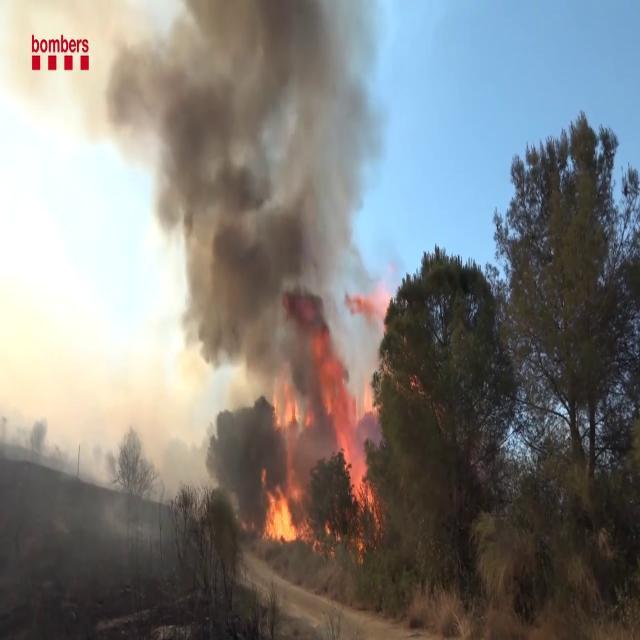Fire: (326, 368, 379, 531), (259, 478, 307, 548)
Smoke: (100, 1, 373, 390)
